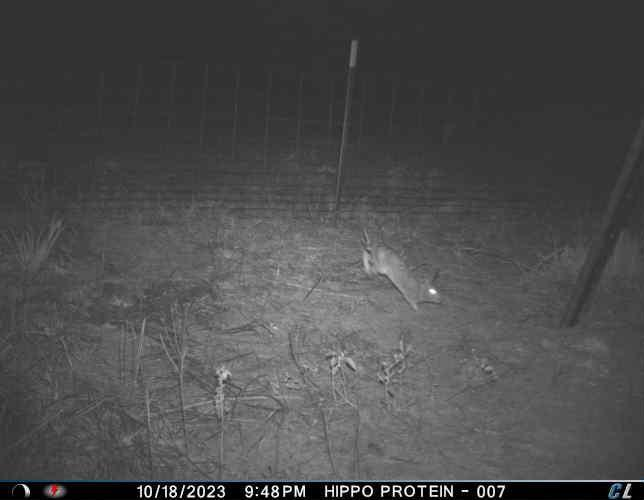Rabbit: (362, 235, 446, 313)
